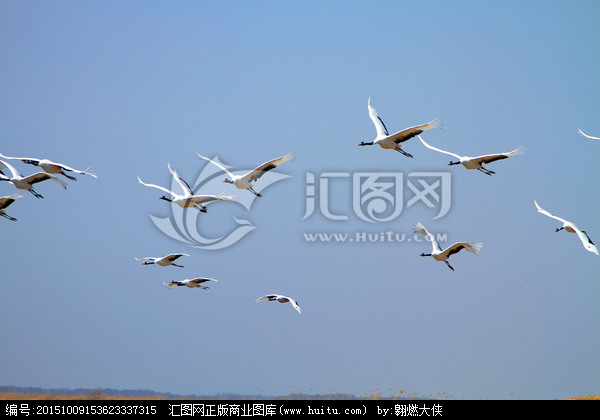bird: (355, 97, 441, 158), (190, 151, 297, 198), (416, 135, 520, 178), (530, 199, 600, 257), (413, 219, 484, 273), (133, 173, 233, 211), (1, 151, 102, 186), (1, 159, 74, 201), (252, 291, 306, 316), (134, 249, 191, 270), (163, 275, 221, 291)
